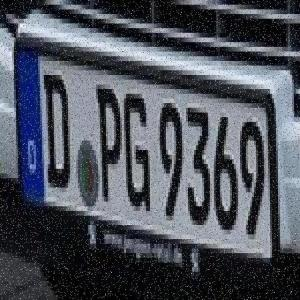Plate: (12, 24, 286, 280)
